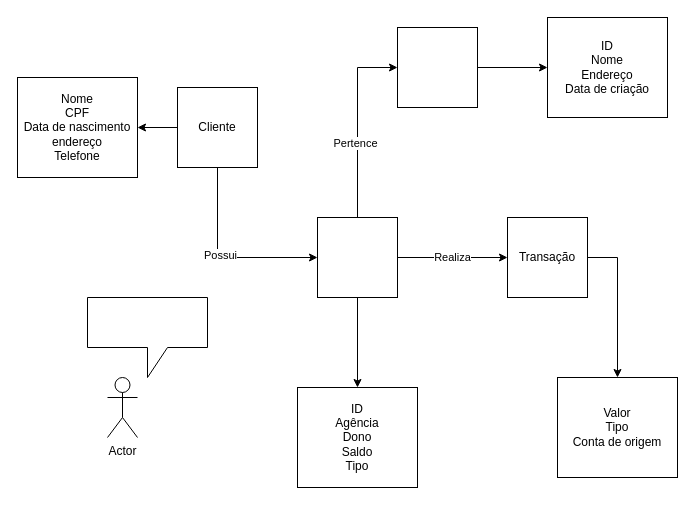
Some shapes in this 695 by 505 pixel diagram are drawn without their labels. Each missing label, with the box of its shape:
Agência: (396, 26, 478, 108)
Conta: (316, 216, 398, 298)
DAW é muito legal!!!!: (86, 296, 208, 378)
